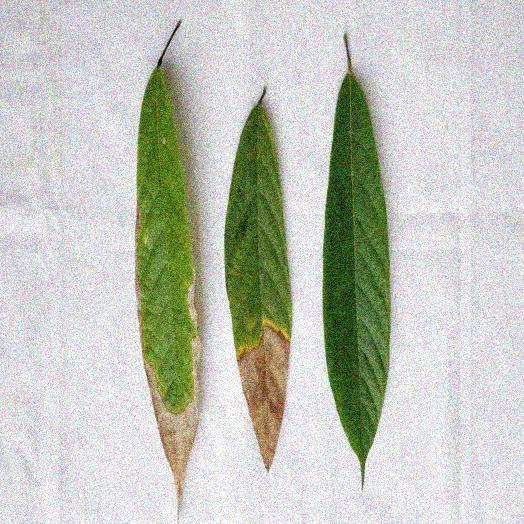Healthy Leaf: (323, 35, 389, 485)
Potassium: (136, 21, 201, 507), (225, 88, 291, 470)
